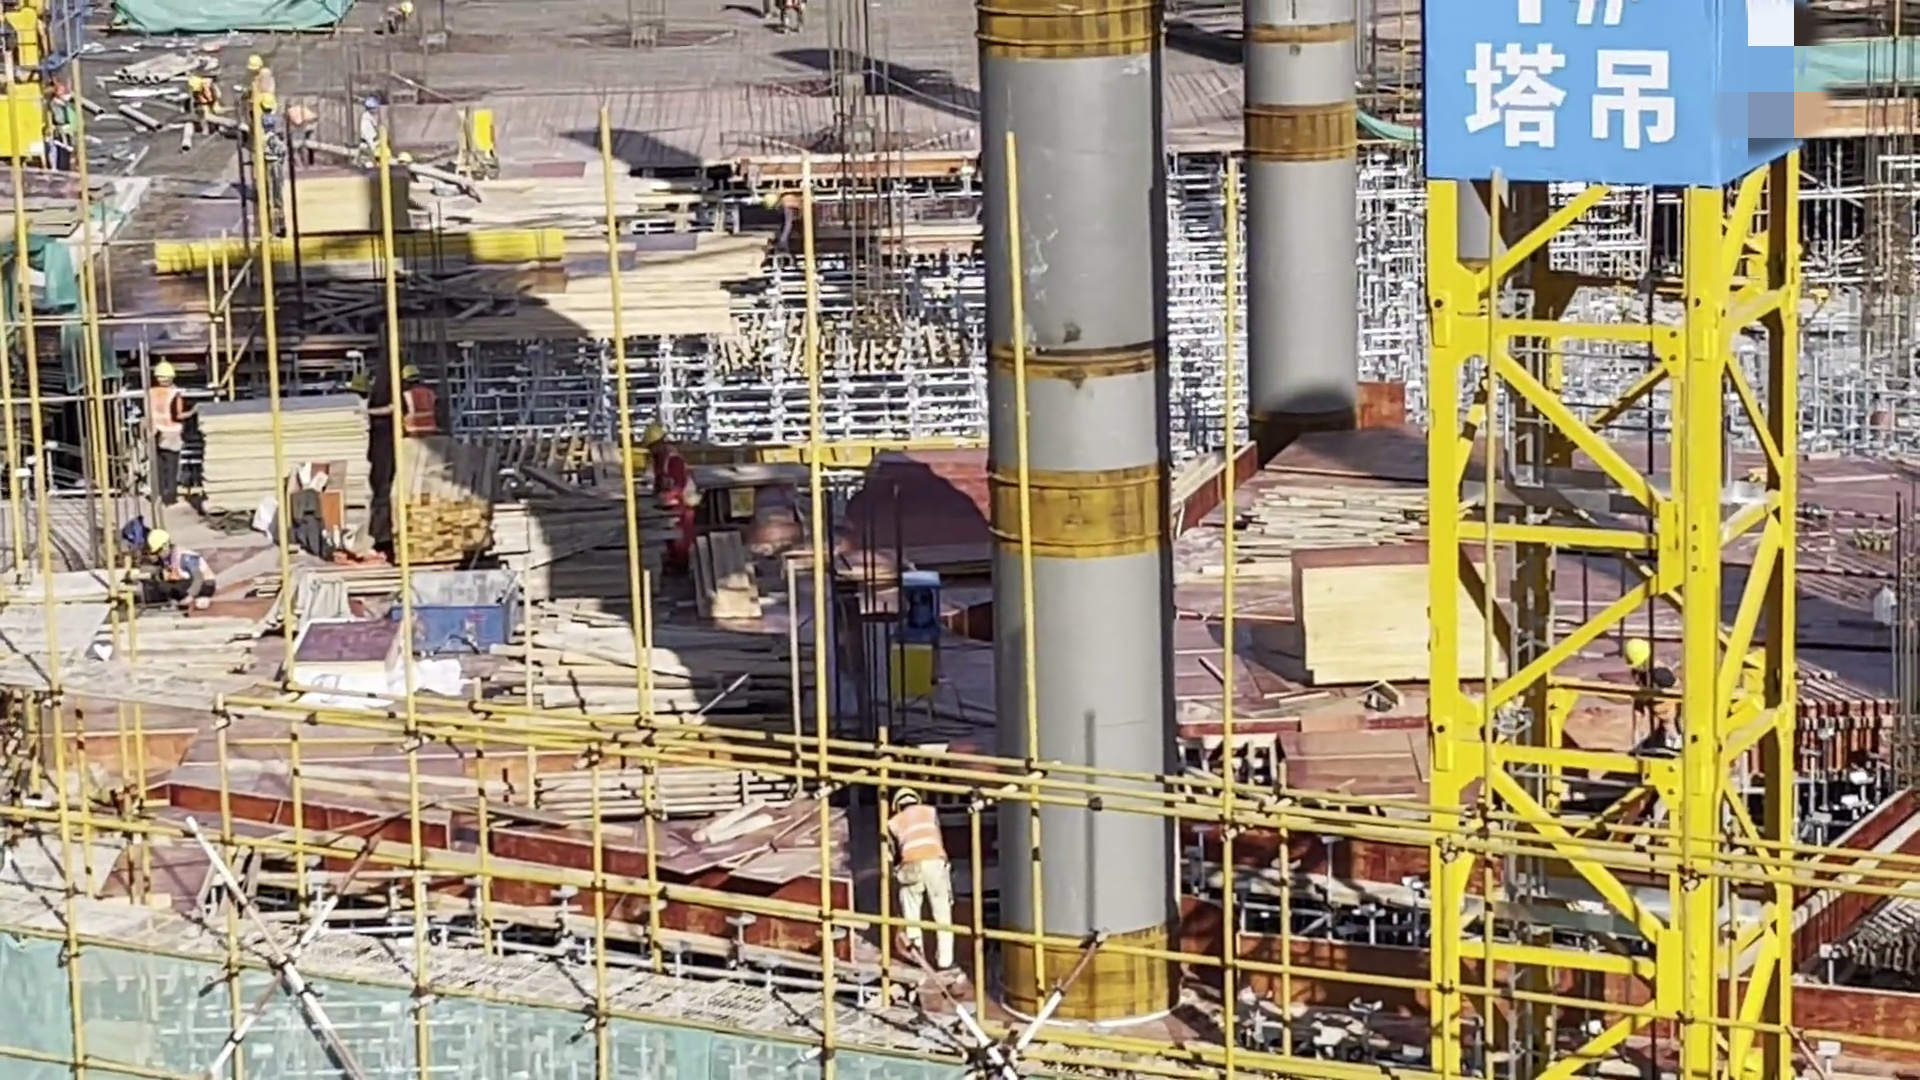helmet: (1619, 638, 1654, 671), (641, 425, 663, 460), (148, 528, 173, 556), (900, 780, 930, 803), (49, 79, 69, 102), (154, 364, 173, 387), (392, 366, 415, 384), (262, 112, 278, 128), (188, 74, 203, 91), (368, 98, 381, 111), (766, 194, 780, 206), (256, 63, 264, 78), (402, 1, 408, 15)
person: (878, 775, 959, 951), (1624, 636, 1711, 768), (118, 515, 211, 621), (138, 356, 201, 505), (653, 415, 719, 551), (51, 73, 96, 183), (389, 350, 439, 435), (765, 191, 820, 245), (349, 91, 387, 160), (254, 121, 291, 188), (363, 1, 421, 36), (186, 71, 219, 121), (246, 56, 281, 100), (776, 1, 819, 34)
vest: (657, 449, 706, 505), (891, 802, 934, 857), (1648, 672, 1684, 731), (163, 556, 212, 596), (145, 388, 179, 442), (401, 390, 442, 434), (783, 195, 808, 240), (56, 99, 79, 144), (357, 114, 383, 151), (260, 129, 284, 165), (202, 81, 227, 108), (256, 72, 276, 106), (379, 5, 401, 27), (786, 1, 804, 12)
